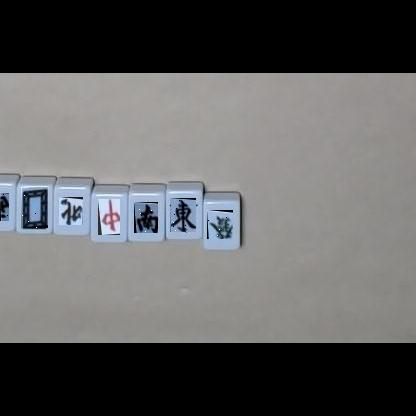1z: (170, 198, 196, 232)
2z: (134, 202, 158, 233)
3z: (0, 193, 9, 221)
4z: (59, 197, 83, 225)
5z: (21, 187, 48, 228)
6z: (207, 210, 233, 239)
7z: (98, 199, 120, 235)
